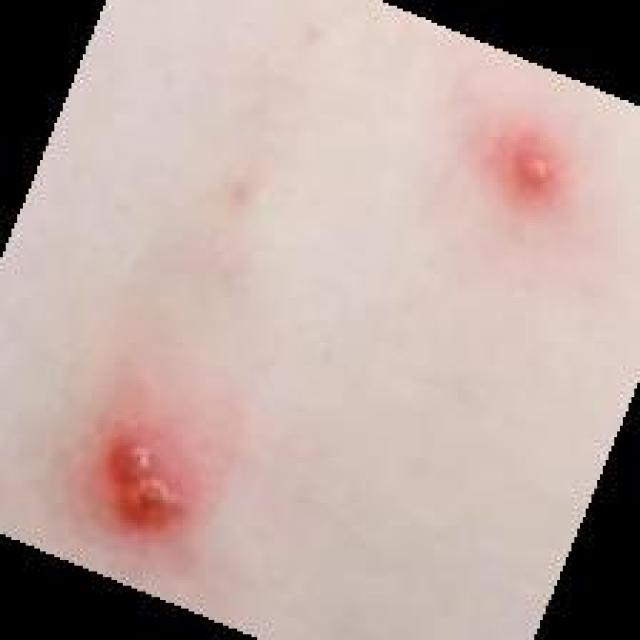others: (63, 0, 563, 629)
